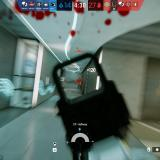Character: (78, 80, 82, 91)
Friend_label: (17, 74, 23, 80)
